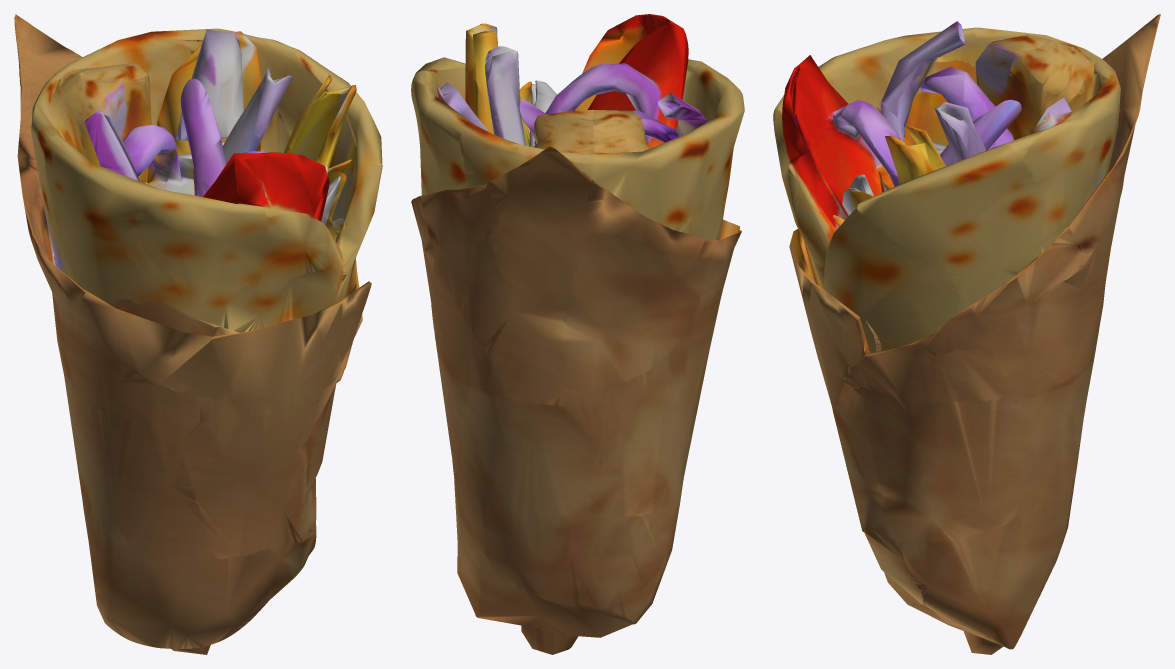
File: gyros.gltf
3 renders of one model, left to right at view 1: azimuth 30°, elevation 25°; view 2: azimuth 150°, elevation 25°; view 3: azimuth 270°, elevation 25°, orthographic.
Visible parts, largest first — view 1: tripo_node_c28386de; view 2: tripo_node_c28386de; view 3: tripo_node_c28386de.
Boxes of the visible parts, x1,y1,x2,y2 form: tripo_node_c28386de: (14, 14, 382, 654); tripo_node_c28386de: (411, 14, 744, 654); tripo_node_c28386de: (773, 14, 1160, 654).
Bounding box in the file's own units: 0.5373 × 0.9943 × 0.5899.
Materials: 1 (1 with a texture image).
